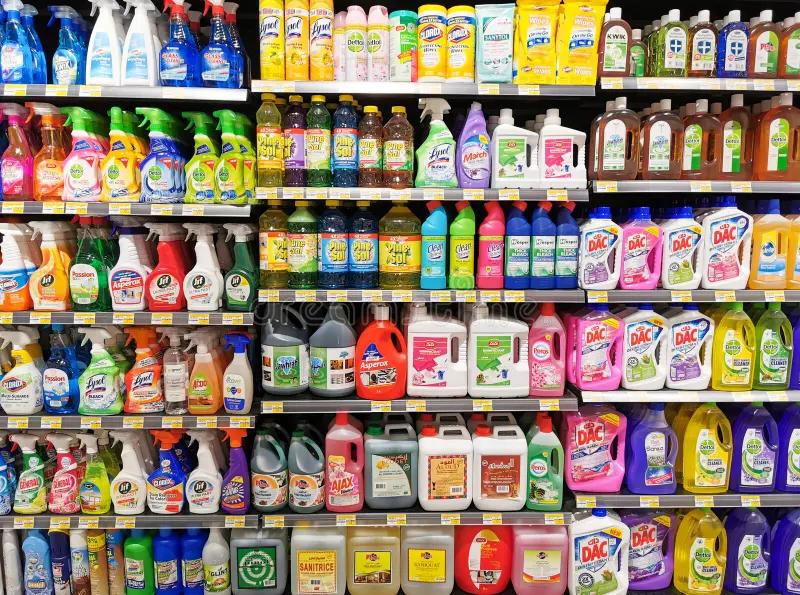cleaner: (467, 302, 528, 397), (406, 303, 466, 396), (565, 405, 626, 492), (568, 508, 629, 594), (355, 304, 407, 399), (701, 196, 752, 289), (625, 403, 677, 493), (567, 304, 622, 389), (136, 107, 185, 202), (681, 403, 732, 493), (364, 423, 417, 509), (674, 508, 727, 594), (68, 216, 115, 311), (729, 402, 778, 492), (309, 303, 356, 396), (621, 510, 676, 589), (61, 107, 106, 201), (100, 107, 144, 202), (665, 304, 714, 389), (723, 507, 770, 594), (26, 103, 68, 200), (108, 217, 151, 311), (78, 327, 124, 414), (621, 304, 667, 389), (325, 412, 364, 511), (538, 109, 586, 188), (712, 302, 755, 390), (748, 199, 790, 289), (491, 109, 539, 187), (144, 222, 186, 311), (415, 98, 457, 186), (0, 327, 42, 414), (659, 206, 703, 289), (578, 207, 622, 289), (29, 221, 69, 311), (181, 112, 220, 203), (528, 303, 566, 396), (526, 415, 563, 510), (753, 302, 793, 389), (183, 223, 223, 310), (620, 207, 662, 289), (0, 103, 35, 200), (42, 324, 80, 413), (121, 0, 160, 86), (124, 327, 163, 412), (147, 430, 186, 513), (249, 429, 288, 512), (0, 223, 36, 311), (185, 331, 223, 414), (287, 429, 325, 512), (86, 0, 123, 85), (223, 223, 258, 311), (213, 110, 246, 203), (110, 430, 146, 515), (456, 102, 491, 188), (9, 434, 47, 513), (186, 430, 222, 513), (48, 6, 85, 84), (156, 327, 189, 414), (46, 433, 80, 513), (347, 201, 378, 288), (317, 200, 347, 288), (220, 428, 250, 514), (78, 434, 110, 514), (476, 201, 505, 289), (222, 332, 253, 414), (331, 95, 358, 187), (770, 510, 799, 594), (223, 2, 251, 87), (420, 201, 447, 289), (529, 201, 556, 289), (448, 201, 475, 288), (504, 201, 531, 288), (20, 4, 47, 83), (775, 404, 799, 492), (123, 529, 155, 594), (22, 530, 52, 594), (202, 527, 230, 594), (153, 528, 181, 594), (180, 528, 207, 594), (48, 529, 71, 594), (69, 530, 90, 594)
detergent: (513, 0, 560, 591), (467, 302, 529, 397), (406, 303, 467, 396), (305, 16, 338, 187), (568, 508, 630, 594), (565, 405, 626, 492), (355, 304, 407, 399), (418, 424, 474, 510), (701, 196, 752, 289), (472, 424, 527, 510), (625, 403, 677, 493), (364, 423, 418, 509), (681, 403, 732, 493), (136, 107, 184, 202), (674, 508, 727, 594), (729, 402, 778, 492), (309, 303, 356, 396), (621, 510, 676, 589), (100, 107, 144, 202), (68, 216, 112, 311), (574, 304, 623, 389), (665, 304, 714, 389), (107, 217, 151, 311), (591, 97, 641, 179), (723, 507, 770, 594), (78, 327, 125, 414), (261, 307, 308, 394), (62, 107, 105, 201), (26, 103, 67, 200), (711, 302, 756, 390), (454, 526, 512, 594), (621, 304, 667, 389), (511, 526, 568, 594), (325, 412, 364, 511), (158, 0, 202, 87), (414, 98, 457, 187), (144, 222, 187, 311), (289, 527, 346, 594), (538, 109, 586, 188), (748, 199, 790, 289), (230, 529, 288, 594), (491, 109, 539, 187), (0, 327, 42, 415), (526, 415, 564, 510), (183, 223, 224, 311), (578, 207, 622, 289), (29, 221, 69, 311), (181, 111, 220, 203), (660, 206, 703, 289), (347, 527, 400, 594), (401, 526, 453, 594), (528, 303, 566, 396), (619, 207, 662, 289), (753, 302, 793, 389), (42, 325, 81, 414), (639, 99, 682, 179), (124, 327, 163, 412), (0, 103, 34, 200), (147, 430, 186, 513), (249, 429, 288, 512), (0, 223, 36, 311), (287, 429, 325, 512), (223, 223, 258, 311), (213, 110, 246, 203), (110, 430, 146, 515), (719, 94, 755, 179), (456, 102, 491, 188), (9, 434, 47, 513), (476, 4, 514, 82), (187, 333, 222, 414), (347, 201, 379, 289), (287, 201, 319, 289), (46, 433, 80, 513), (317, 200, 347, 288), (220, 428, 250, 514), (78, 434, 110, 514), (331, 95, 358, 187), (256, 94, 283, 186), (259, 200, 287, 288), (383, 106, 413, 188), (770, 510, 799, 594), (476, 201, 504, 288), (416, 4, 447, 81), (223, 2, 251, 87), (529, 201, 556, 289), (420, 201, 447, 289), (504, 201, 531, 288), (448, 201, 475, 288), (653, 9, 688, 76), (446, 6, 476, 83), (281, 95, 306, 186), (598, 7, 631, 75), (747, 10, 780, 77), (670, 403, 698, 481), (555, 201, 580, 288), (775, 404, 799, 492), (123, 529, 154, 594), (389, 10, 417, 81), (687, 11, 717, 76), (309, 0, 333, 80), (22, 530, 52, 594), (202, 527, 230, 594), (153, 527, 181, 594), (344, 5, 367, 80), (366, 5, 388, 81), (48, 529, 71, 594), (105, 529, 125, 591), (332, 10, 346, 80)
dettol: (467, 303, 529, 397), (406, 303, 467, 396), (565, 405, 626, 492), (568, 508, 629, 594), (355, 305, 407, 399), (472, 424, 527, 510), (625, 403, 677, 493), (418, 425, 473, 510), (567, 304, 622, 389), (681, 403, 732, 493), (364, 423, 417, 508), (674, 508, 726, 594), (775, 404, 800, 582), (309, 303, 356, 396), (621, 510, 676, 589), (730, 402, 777, 492), (665, 304, 714, 389), (723, 508, 770, 594), (511, 526, 569, 594), (621, 304, 667, 389), (455, 526, 512, 594), (712, 302, 755, 390), (748, 199, 790, 289), (290, 527, 346, 594), (660, 206, 703, 289), (526, 414, 563, 510), (347, 527, 400, 594), (401, 526, 453, 594), (528, 303, 566, 396), (578, 207, 621, 289), (620, 207, 662, 289), (753, 302, 792, 389), (770, 510, 799, 594)
